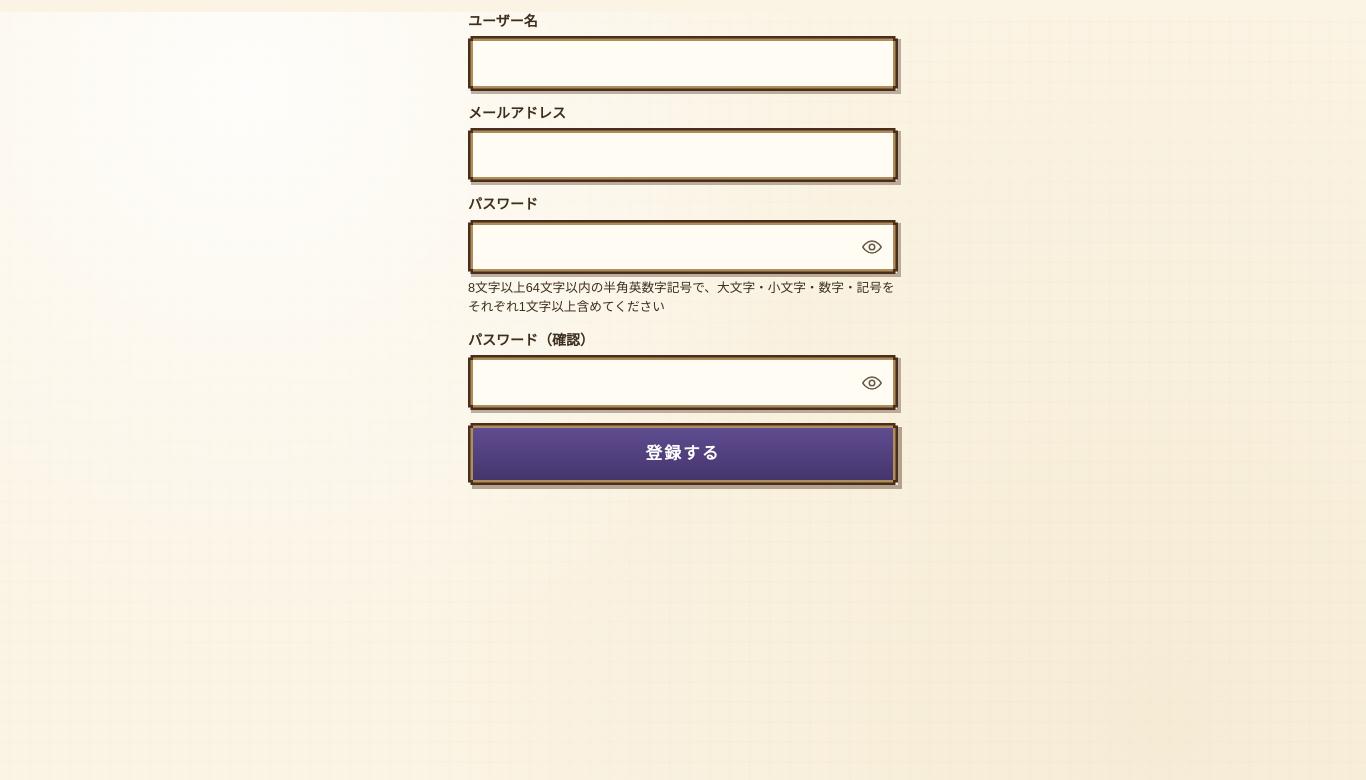
Test: SignUpForm › 確認パスワードが一致しない場合は送信しない
The image size is (1366, 780).
Type "michishiru" into the field with id "sign-up-username" at [683, 64], box [468,36,898,91]
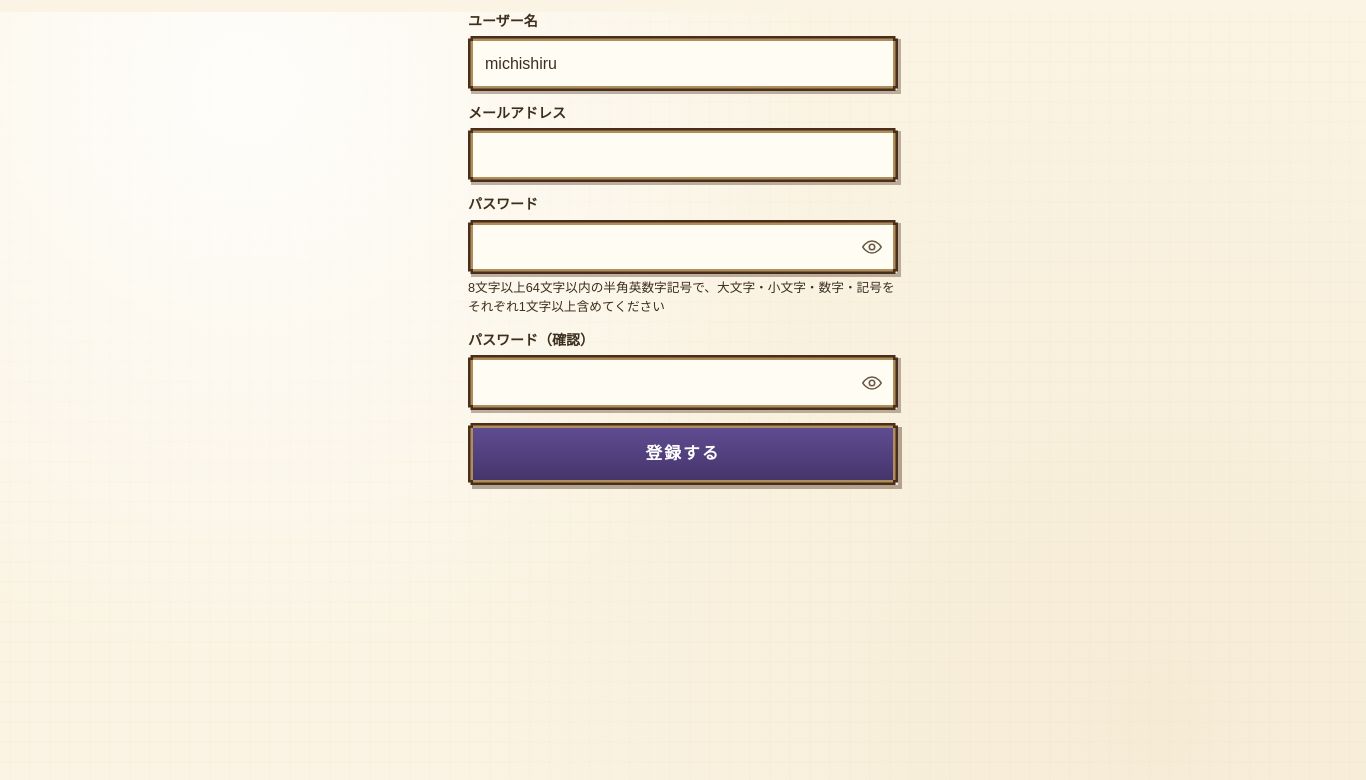
Type "user@example.com" into the field with id "sign-up-email" at [683, 155], box [468,128,898,182]
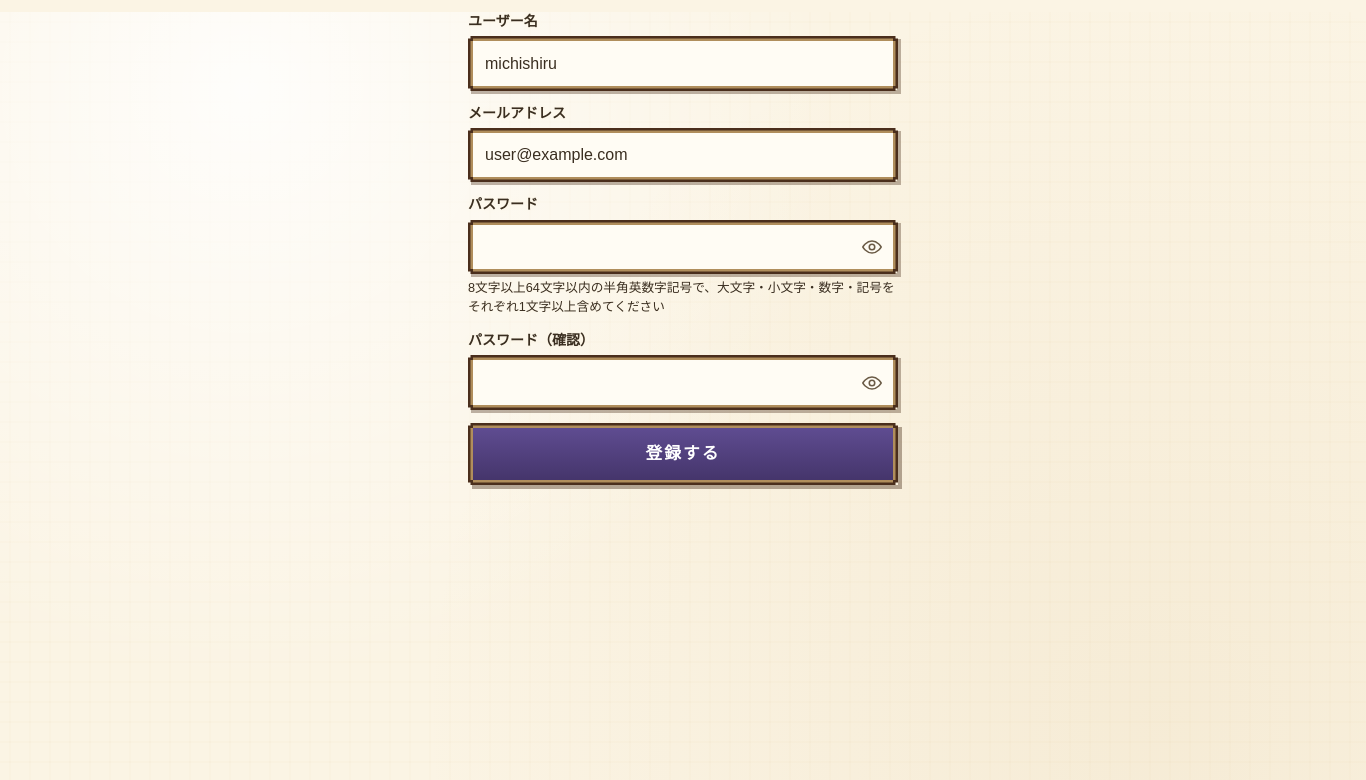
Type "Abcdef1!" into the password field with id "sign-up-password" at [683, 247], box [468,220,898,274]
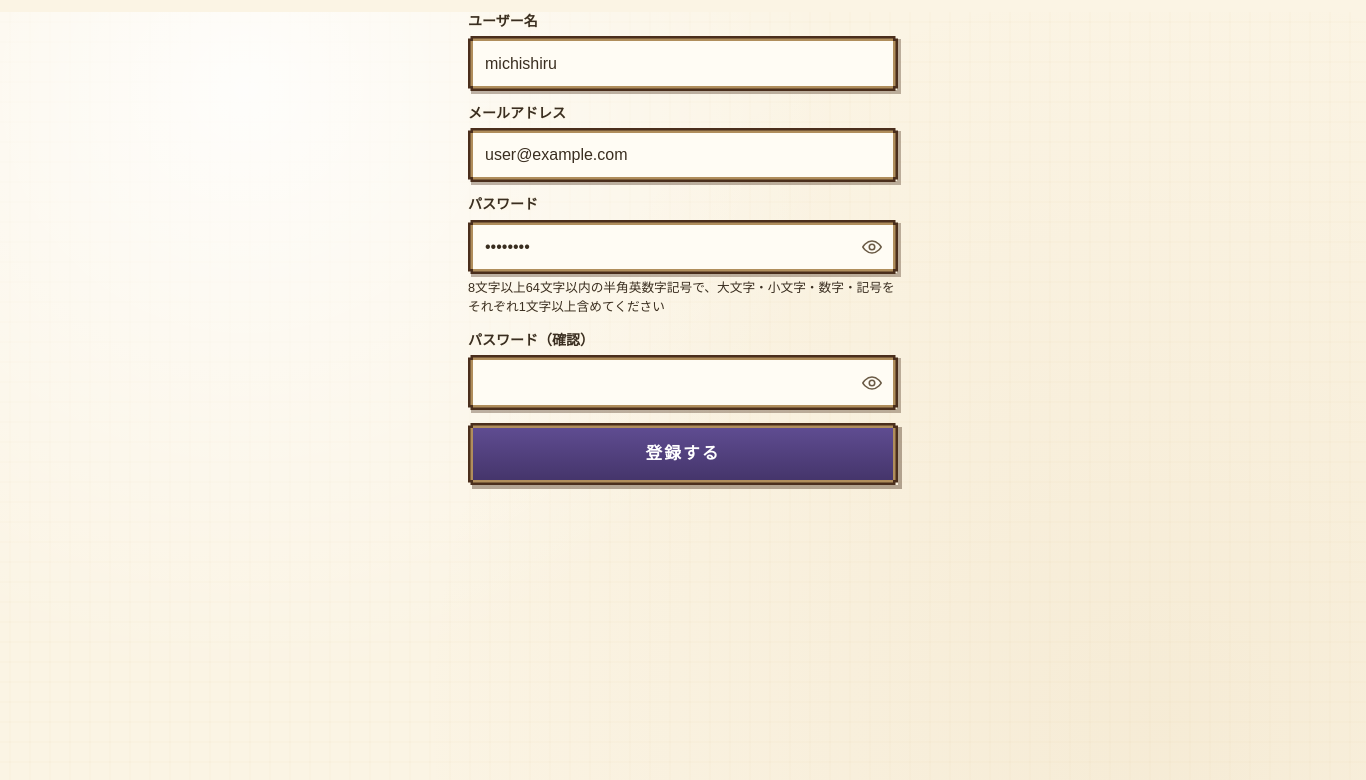
Type "Abcdef1?" into the password field with id "sign-up-password-confirmation" at [683, 383], box [468,355,898,410]
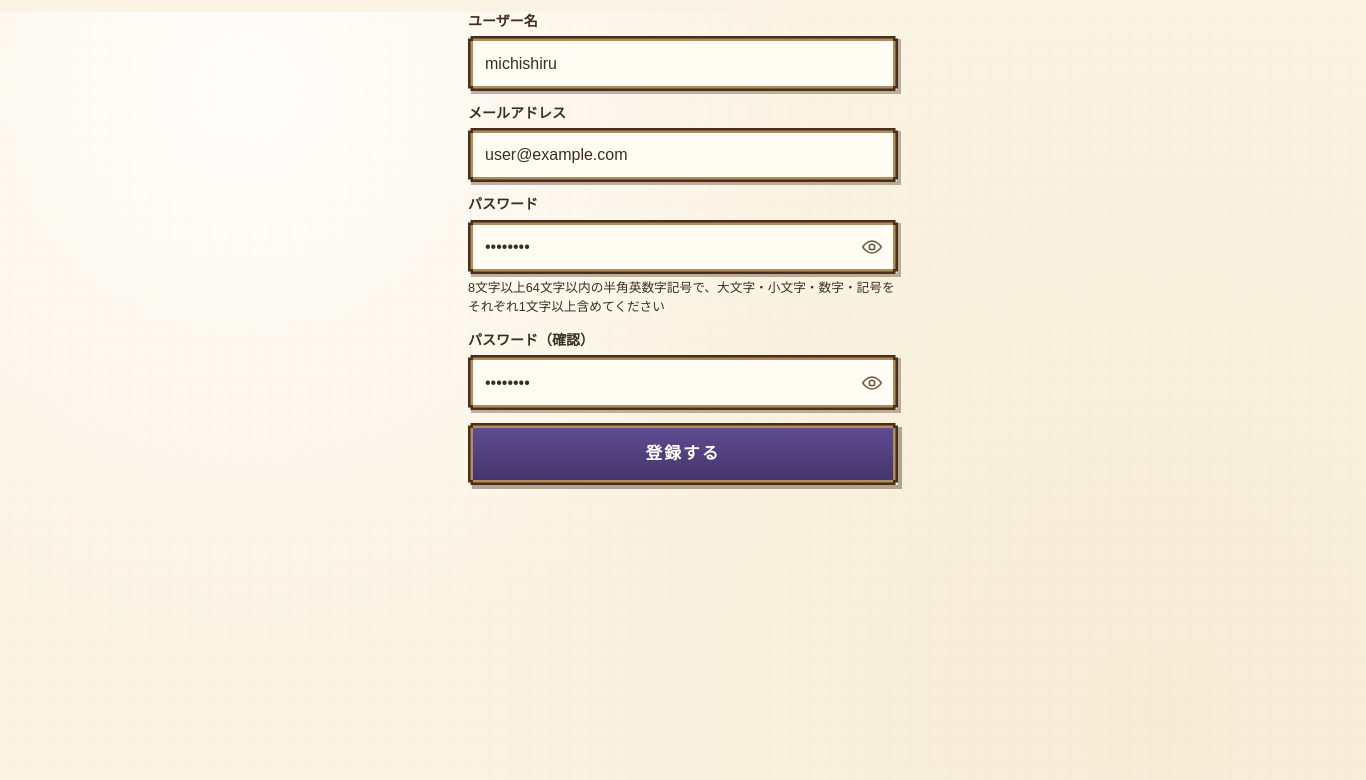
Submit the form, box [468,12,898,485]
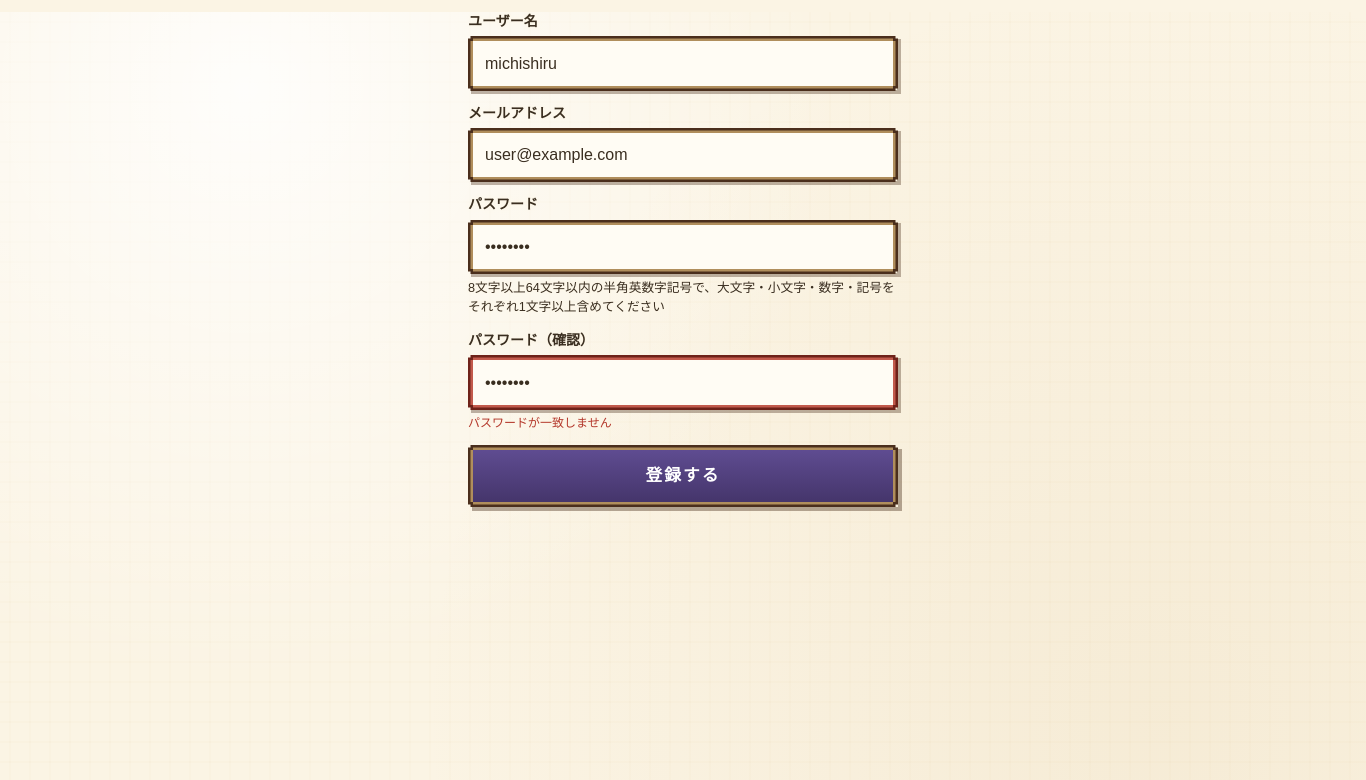
expect the text with id "sign-up-password-confirmation-error" reads "パスワードが一致しません": met, box [468,416,612,430]
